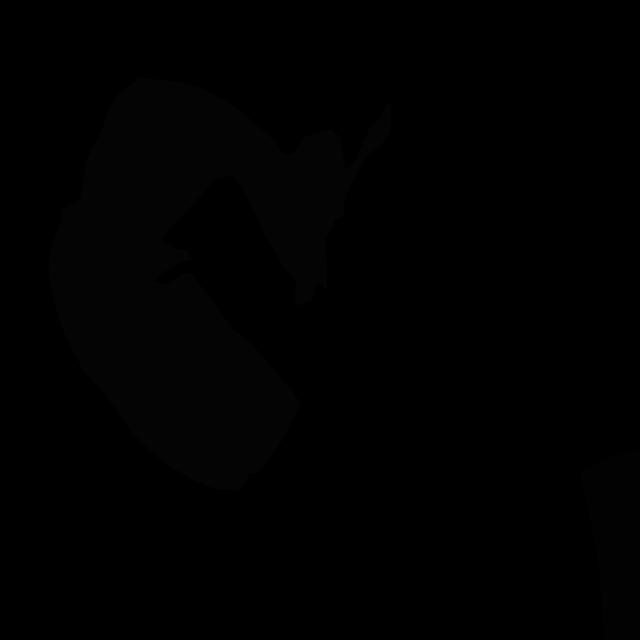cardboard: (580, 448, 640, 640)
soft_plastic: (48, 77, 391, 491)
